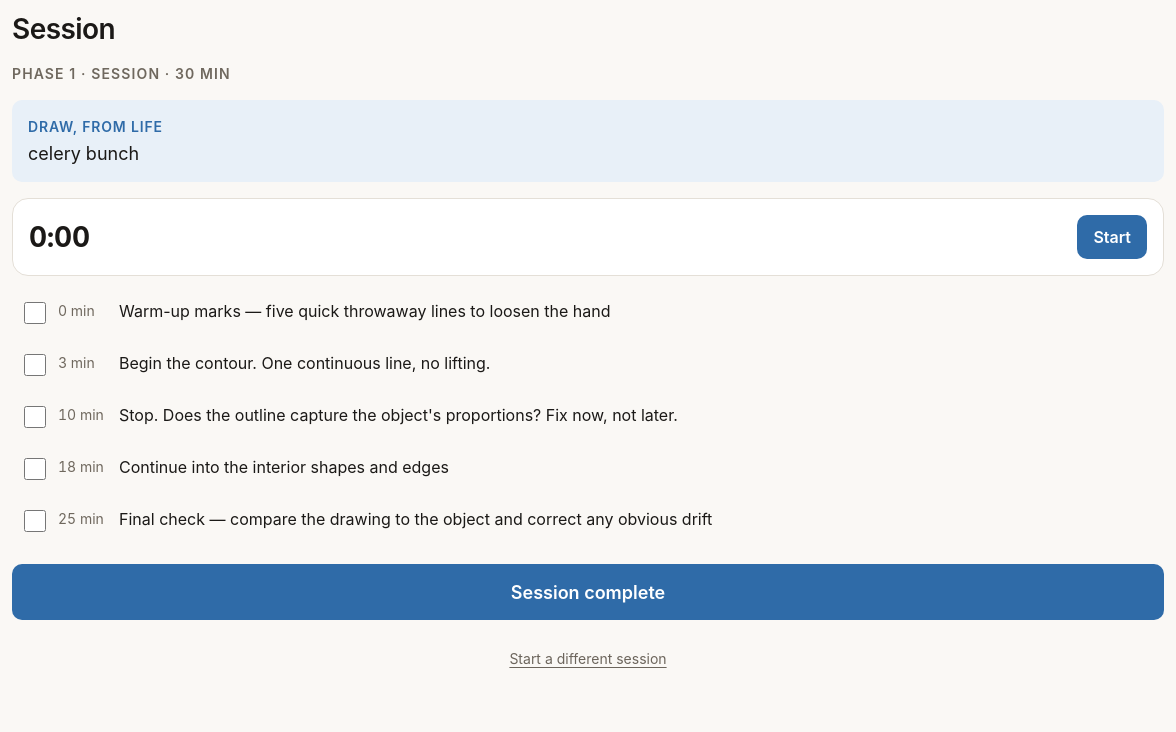
Test case: the session runner › Start begins the timer and swaps in Pause
Click the button "Start": click(1112, 237) [1077, 215, 1147, 259]
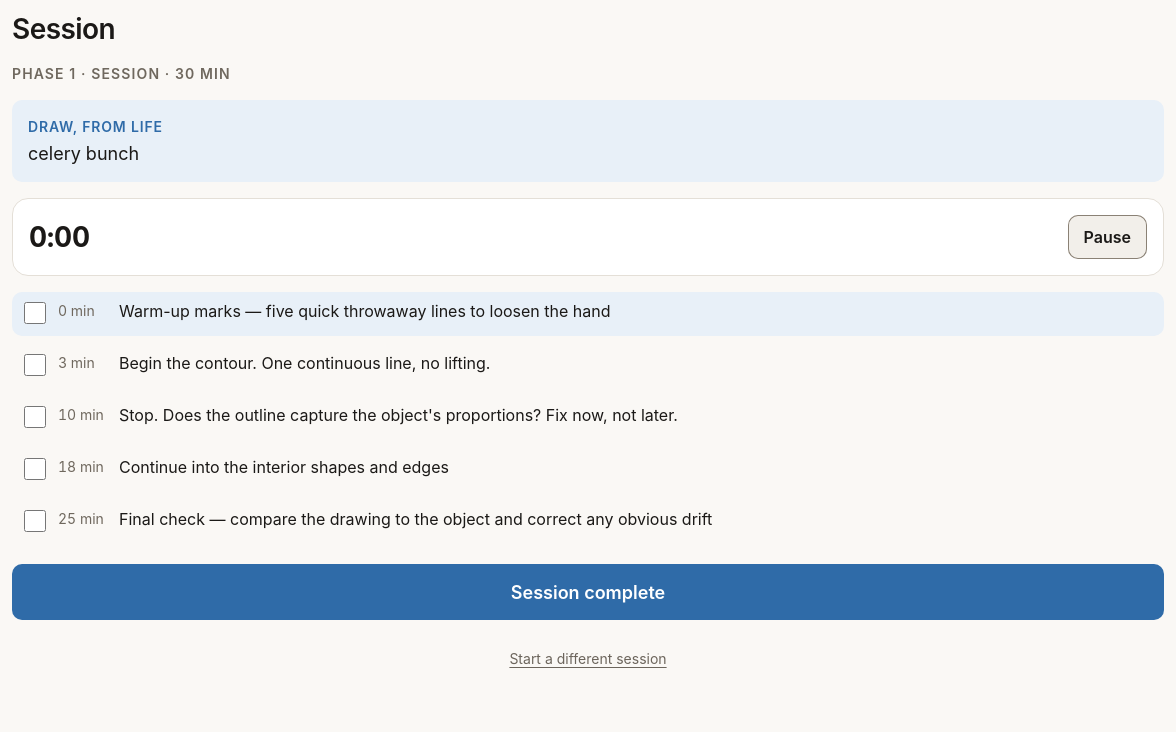
Result: the button "Pause" is shown at [1068, 215, 1147, 259]
